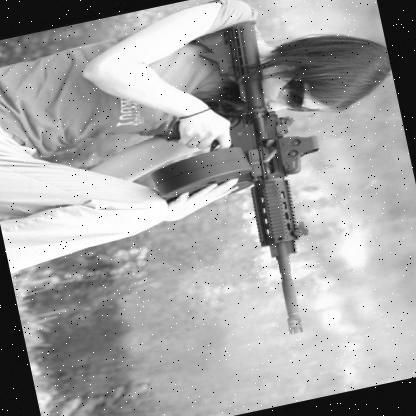rifle: (124, 8, 359, 357)
